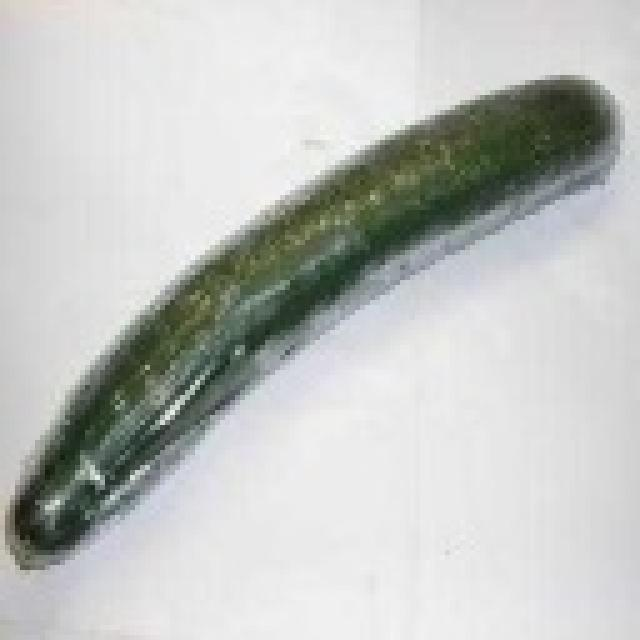Cucumber: (8, 71, 624, 585)
